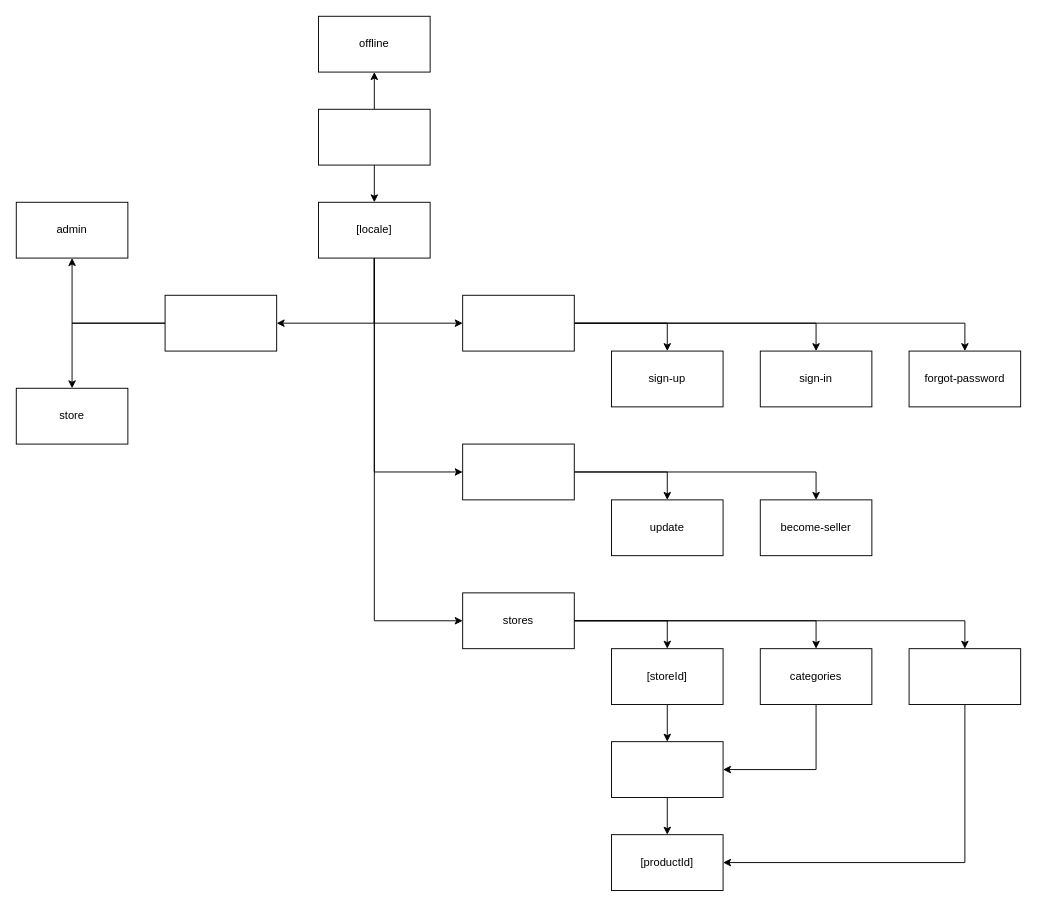
This 1037x907 diagram has some shape labels left out. Here are the shapes that lost their labels. From the top down, the centre of each, then its label:
At (374,136): "app".
At (220,322): "dashboard".
At (518,322): "auth".
At (518,471): "profile".
At (964,676): "products".
At (667,769): "[categoryId]".
